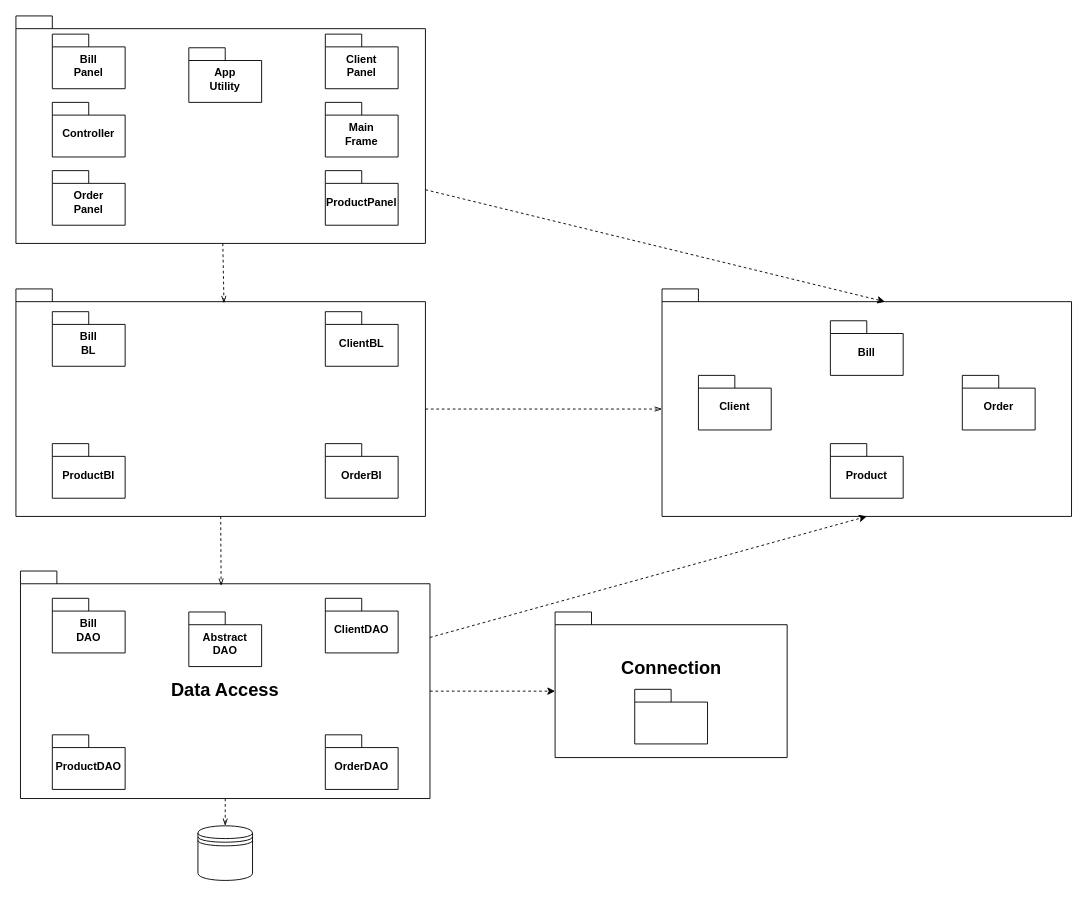
Some shapes in this 1087 by 905 pixel diagram are drawn without their labels. The box of each missing label's shape, as (x1, y1, x2, y2) in pixels:
BusinessLogic: (15, 288, 425, 516)
Connection Handler: (634, 688, 708, 744)
Data Model: (661, 288, 1072, 516)
DB: (197, 825, 253, 880)
Presentation: (15, 15, 425, 243)
